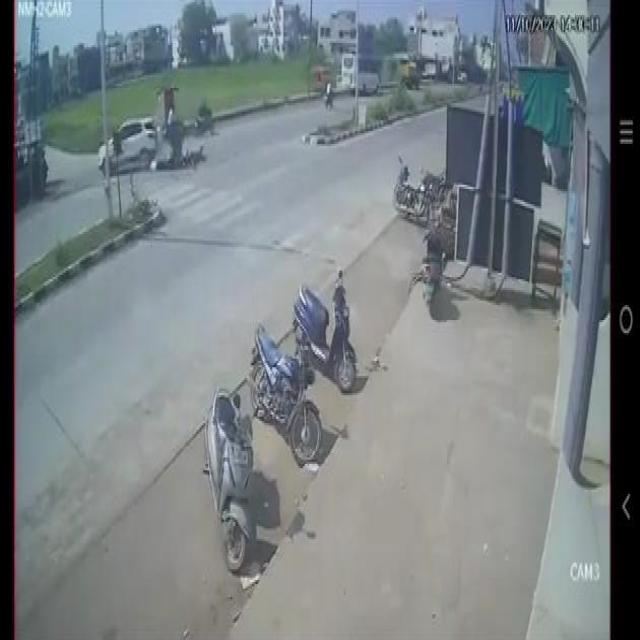accident: (95, 101, 209, 191)
